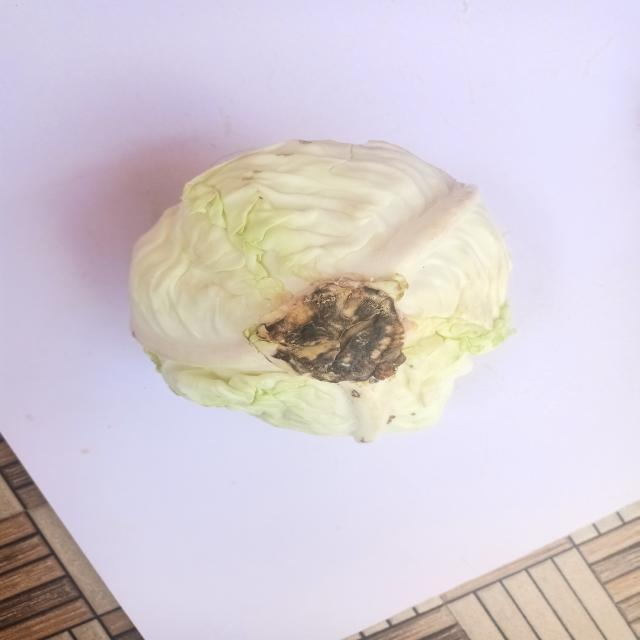Cabbage: (107, 120, 540, 461)
